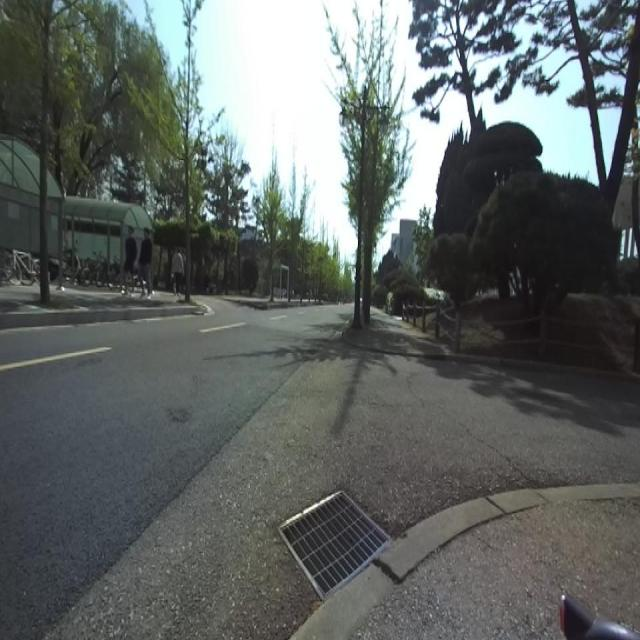sidewalk: (355, 499, 640, 640), (343, 308, 446, 359)
